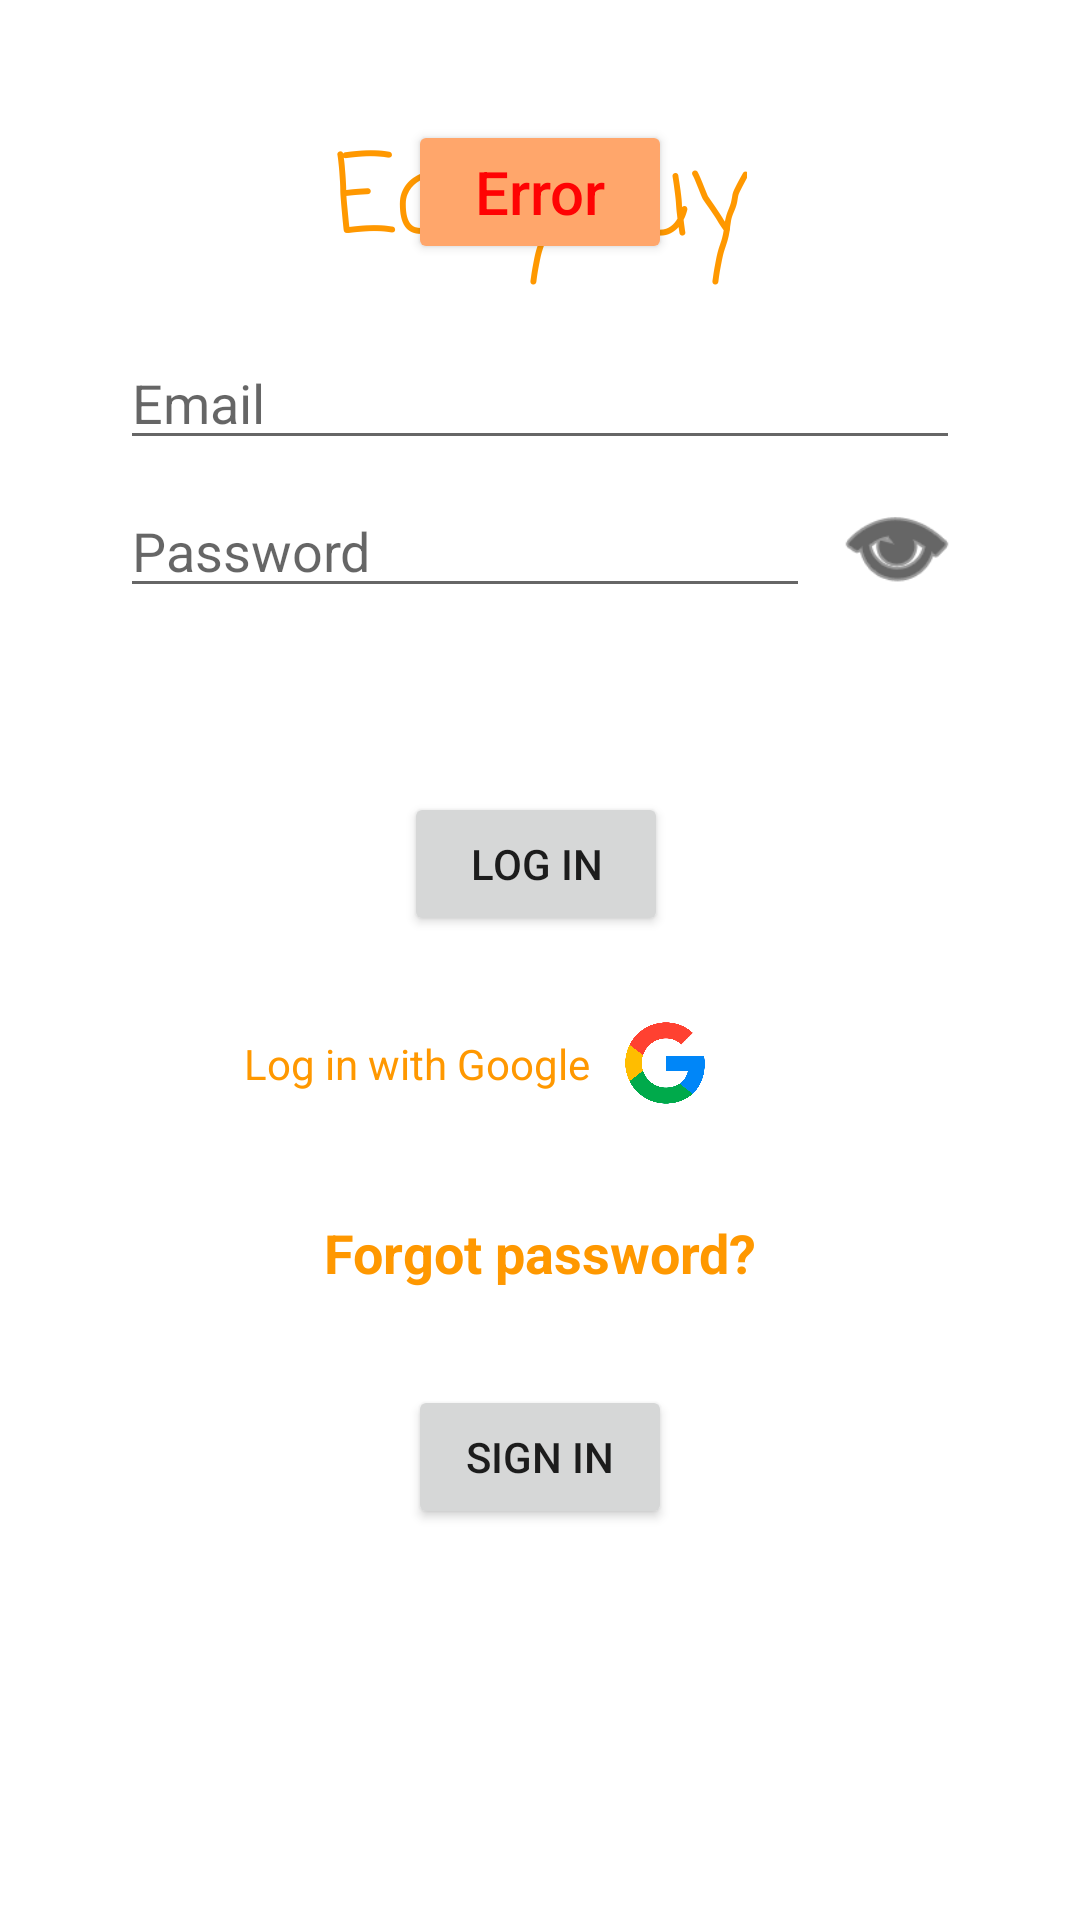

Named icons in this screenshot (1080×1920) and their centers, (x,y):
view: (897,549)
